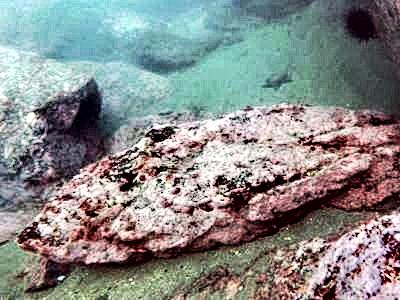urchin: (347, 10, 379, 41)
